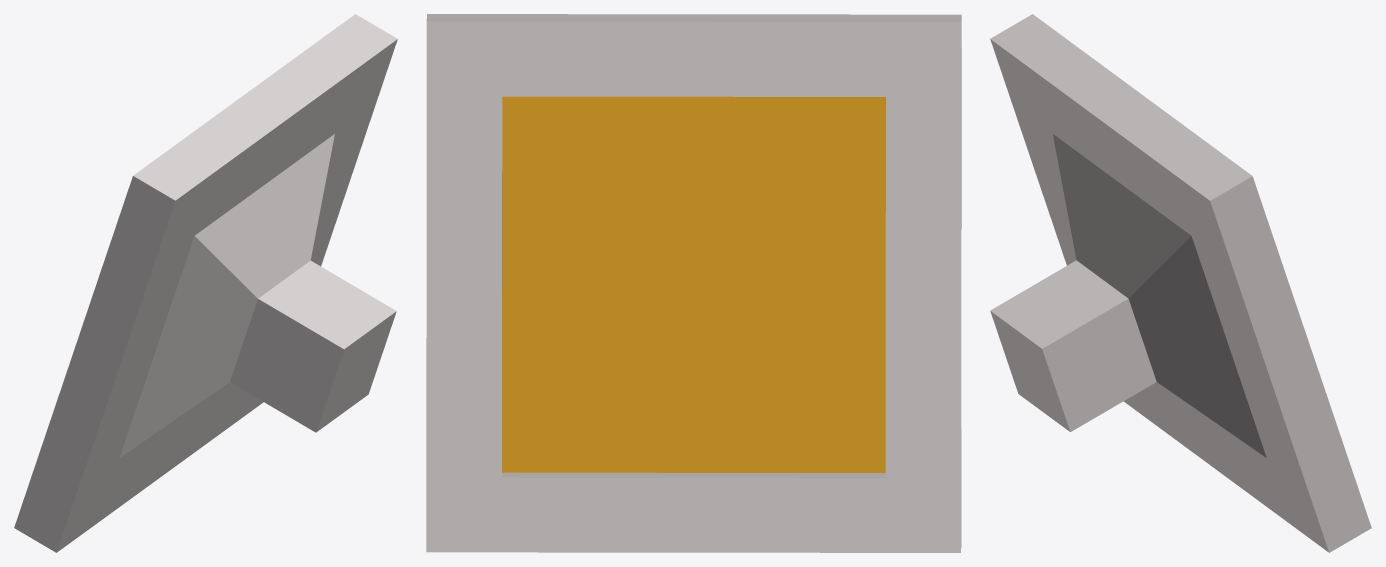
The model's file is LightStanding_light.fbx.
The picture shows the model from 3 angles, left to right: view 1: azimuth 30°, elevation 25°; view 2: azimuth 150°, elevation 25°; view 3: azimuth 270°, elevation 25°; orthographic projection. The views are drawn at different scales.
Visible parts, largest first — view 1: LightStanding_Light; view 2: LightStanding_Light; view 3: LightStanding_Light.
Boxes of the visible parts, x1,y1,x2,y2 form: LightStanding_Light: (14, 14, 397, 552); LightStanding_Light: (426, 14, 961, 552); LightStanding_Light: (990, 14, 1371, 552).
Bounding box in the file's own units: 52.14 × 47.77 × 41.79.
